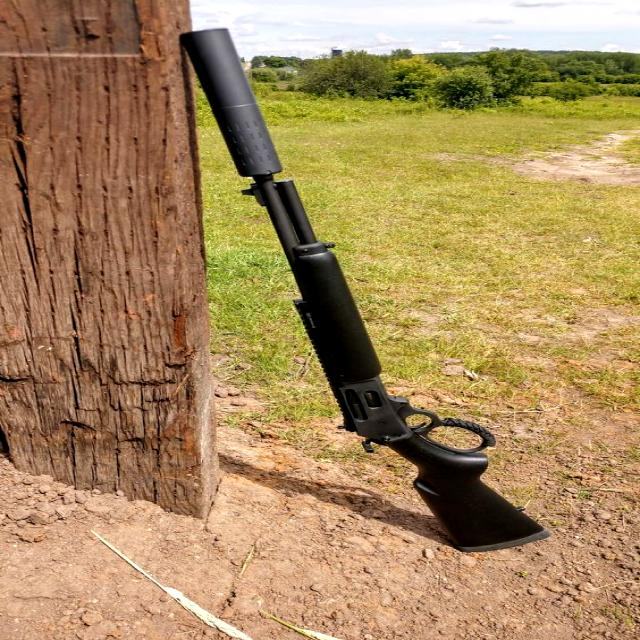shotgun: (170, 17, 574, 562)
